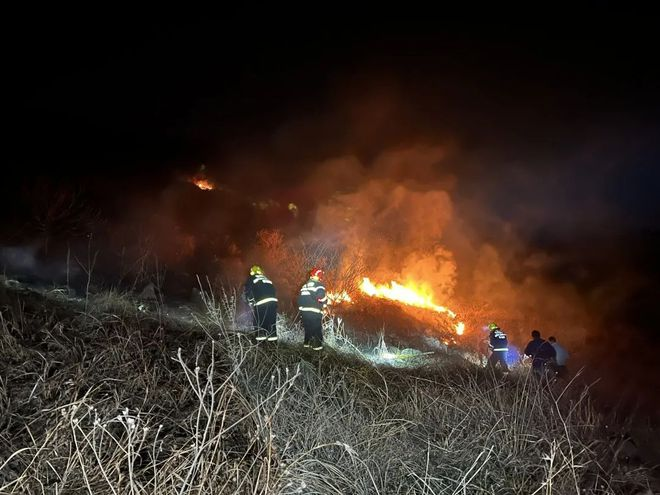fire: (330, 141, 483, 357), (357, 271, 461, 318), (387, 221, 455, 267), (175, 157, 225, 200), (153, 216, 196, 260), (327, 289, 353, 311), (445, 320, 473, 338)
